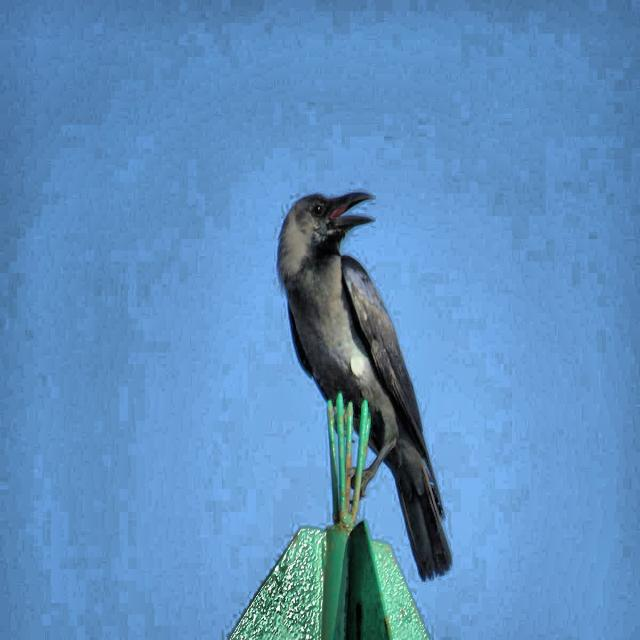crow: (235, 87, 458, 615)
